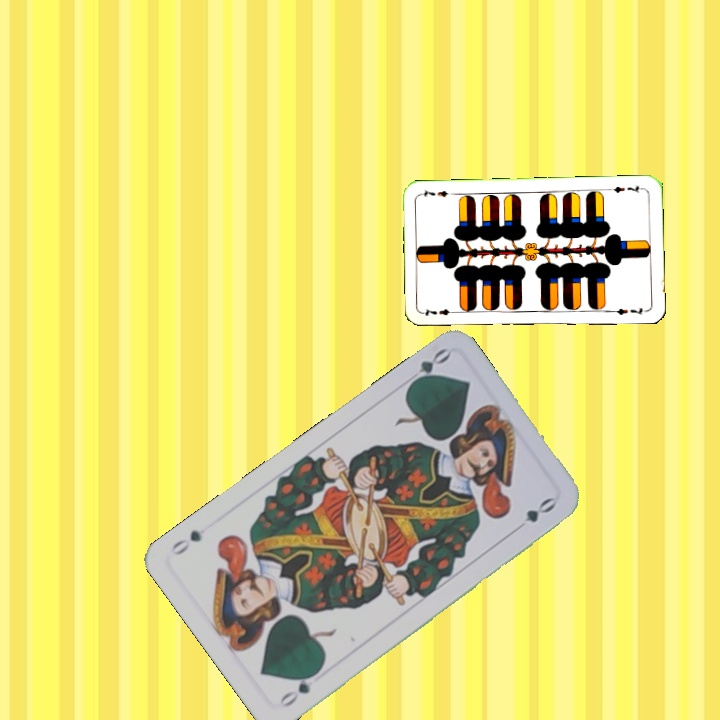E7: (420, 305, 460, 319), (606, 182, 646, 195)
GO: (400, 344, 453, 391), (275, 666, 323, 710)
